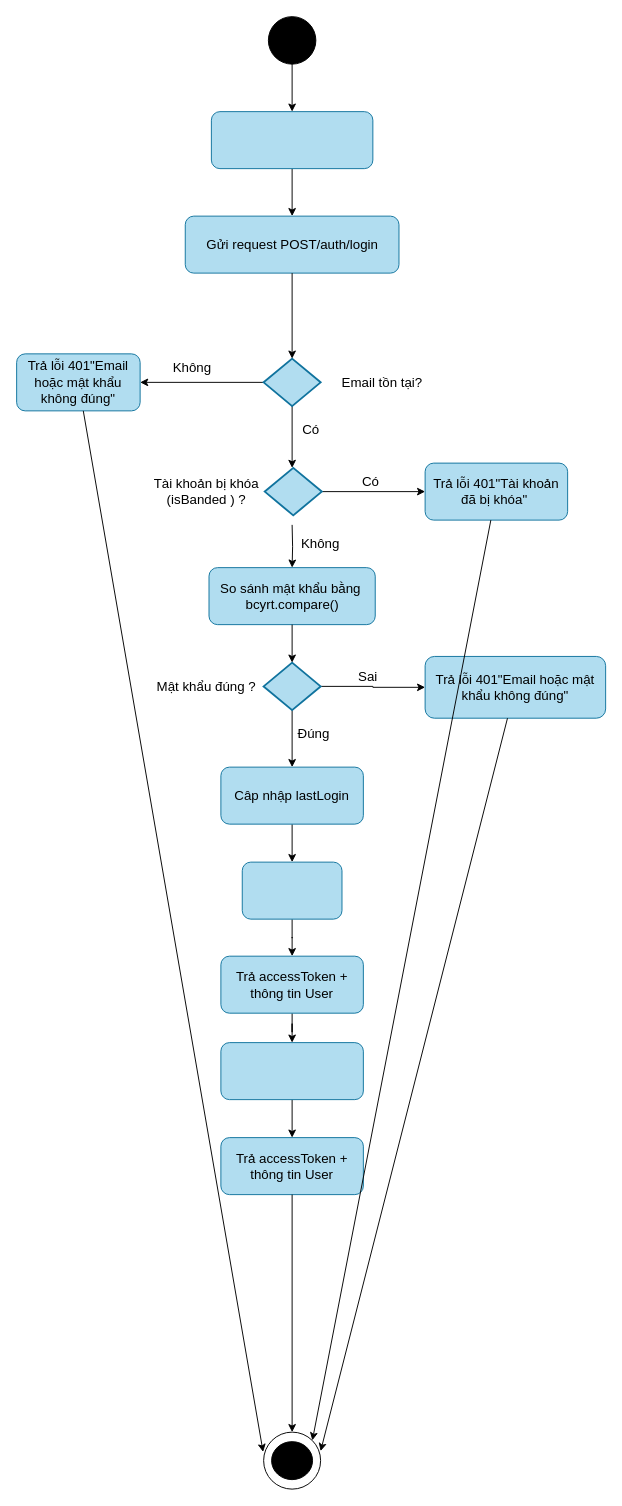
The diagram is 622 pixels wide and 1506 high, and some of its shapes have lost their labels. The shapes that lost their labels are listed below. From the top down, each one's centre as x and y in pixels, then its label:
point 291,140: Nhập email & password
point 291,890: Tạo JWT
point 291,1071: Fontend lưu token vào localStorage
